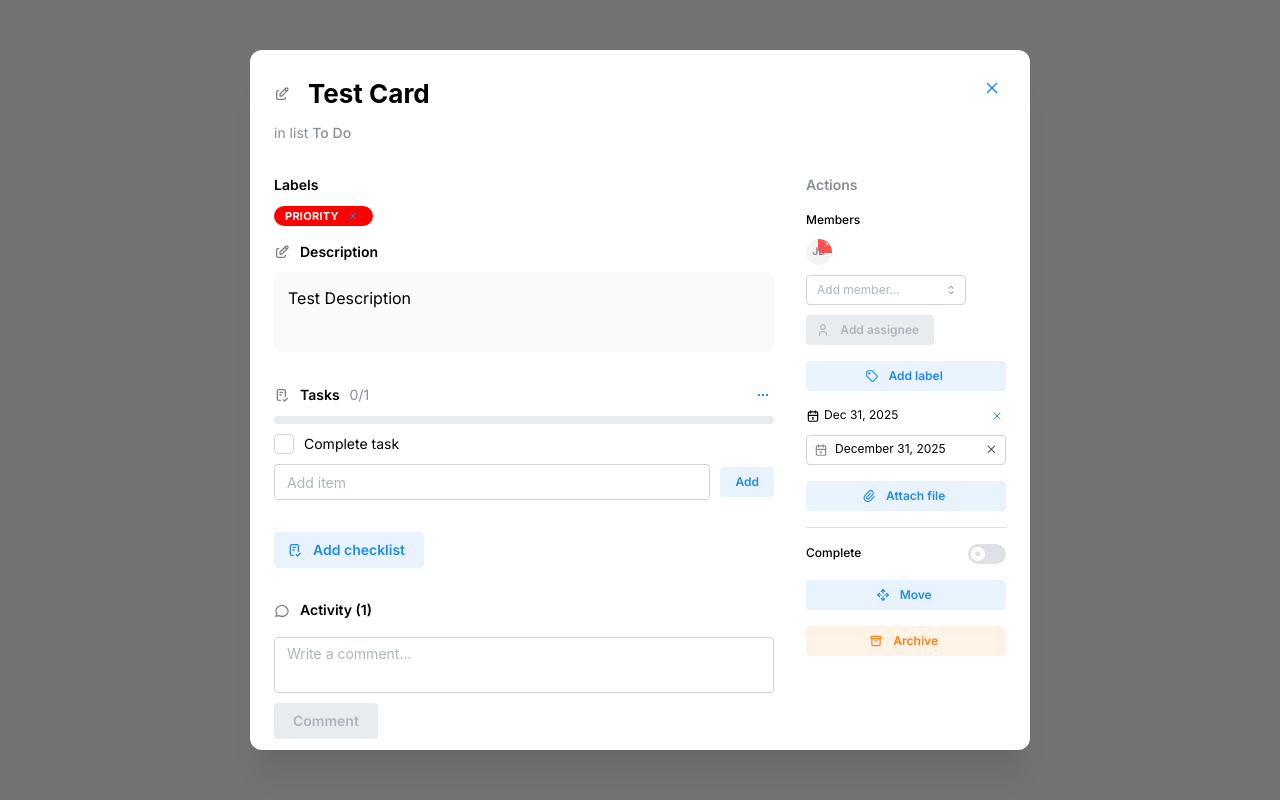
Test: CardModal Component › Checklist Management › should allow adding new checklist
Click the button "Add checklist". click: (349, 550)
box: [274, 532, 424, 568]
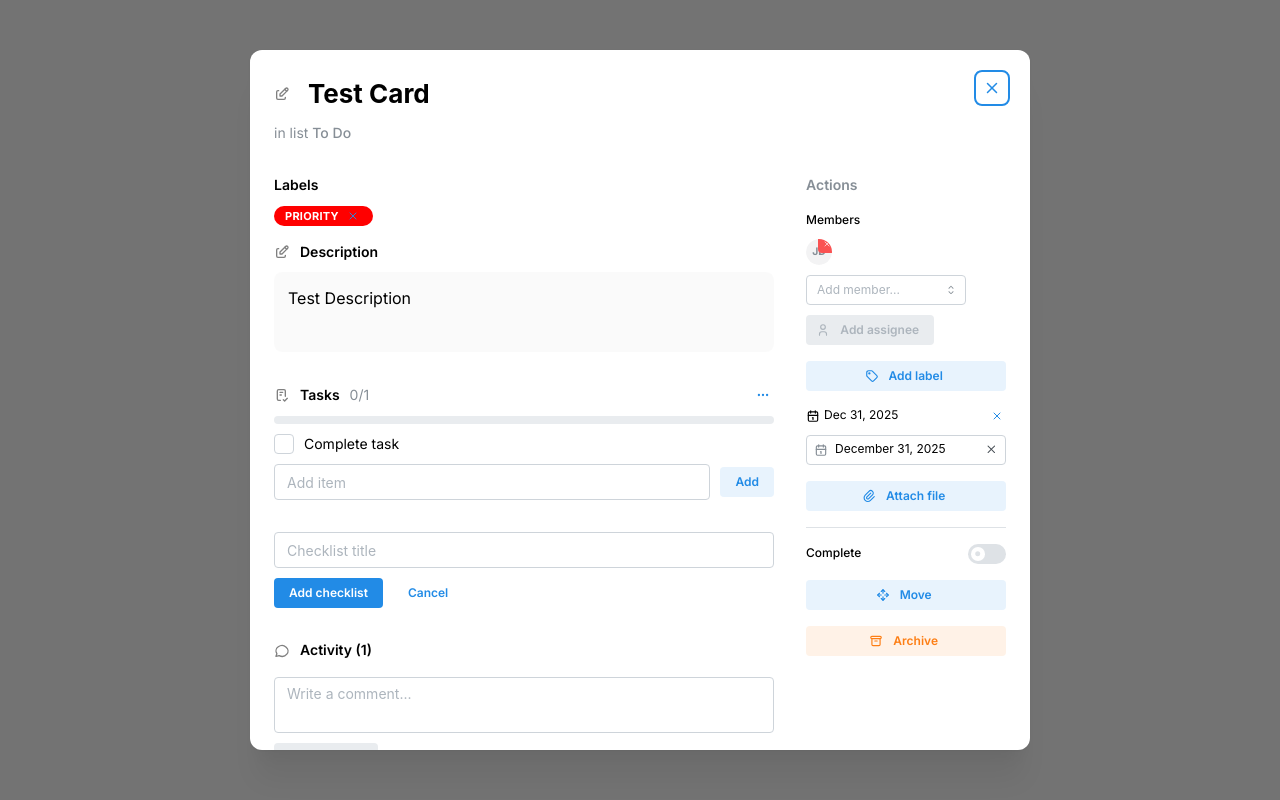
Expected: the field with placeholder "Checklist title" is shown, [274, 532, 774, 568]
